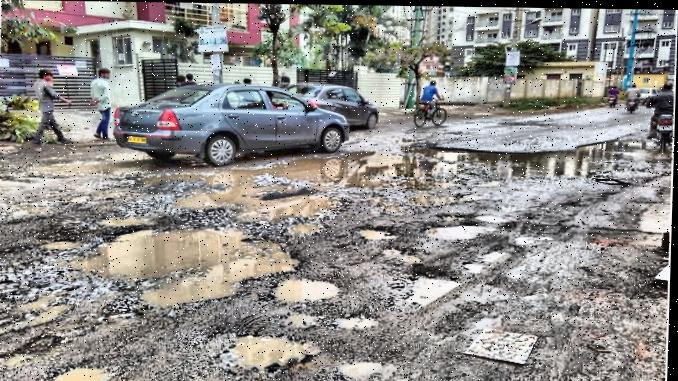pothole: (86, 224, 290, 311), (218, 329, 316, 372), (272, 277, 341, 306), (406, 271, 455, 309), (422, 219, 499, 243), (338, 355, 384, 381), (56, 360, 111, 381), (337, 311, 378, 331), (284, 307, 318, 330), (377, 247, 422, 264), (357, 223, 388, 240), (464, 257, 488, 277), (508, 260, 534, 275), (476, 211, 504, 221), (516, 233, 532, 245), (500, 201, 513, 213)
